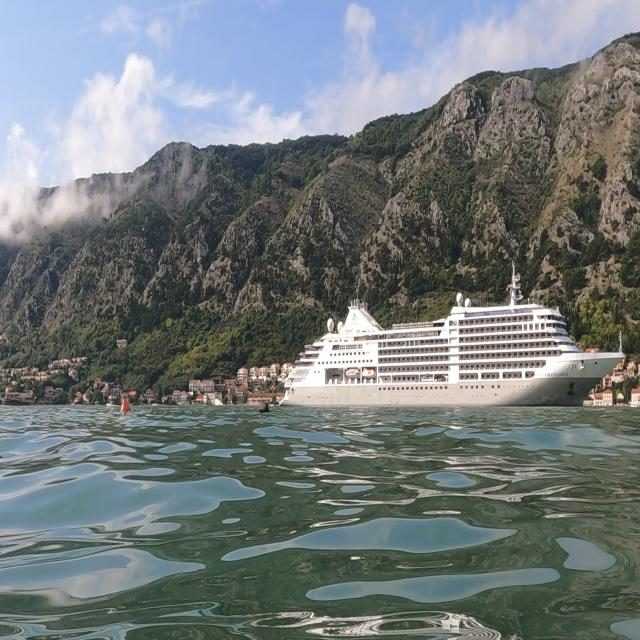boat: (276, 258, 626, 412)
buoy: (248, 397, 273, 418), (116, 392, 135, 419)
